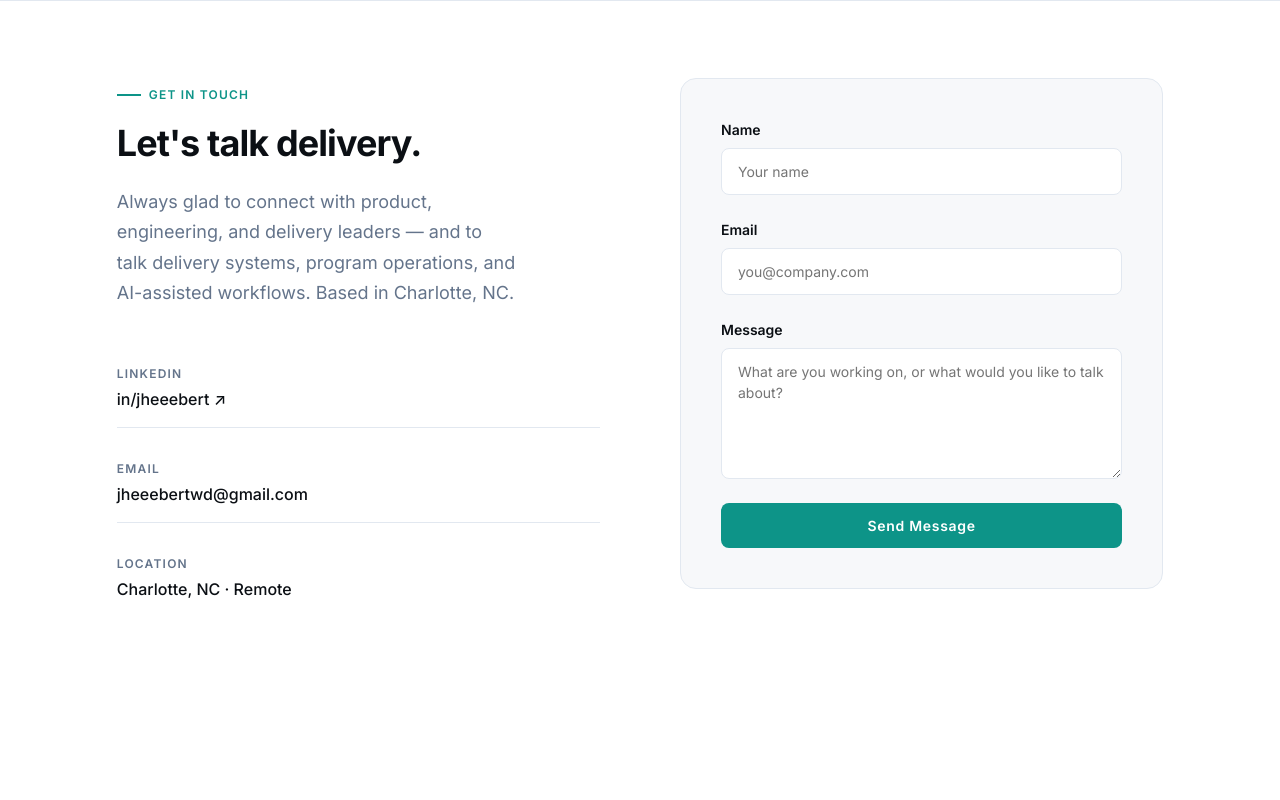
it: Contact form › shows error for invalid email
Type "not-an-email" into the field labelled "Email" at (922, 271), box 721,248 -> 1122,295
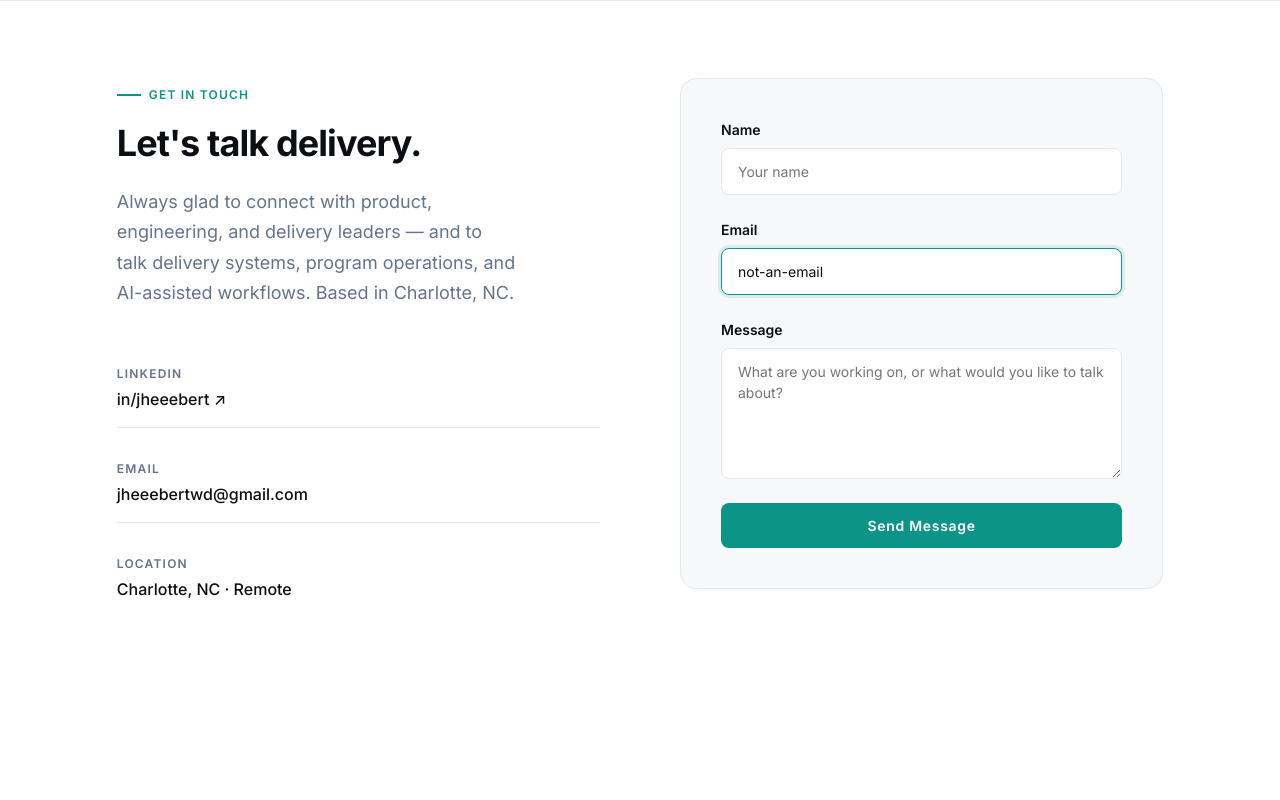
Press Tab
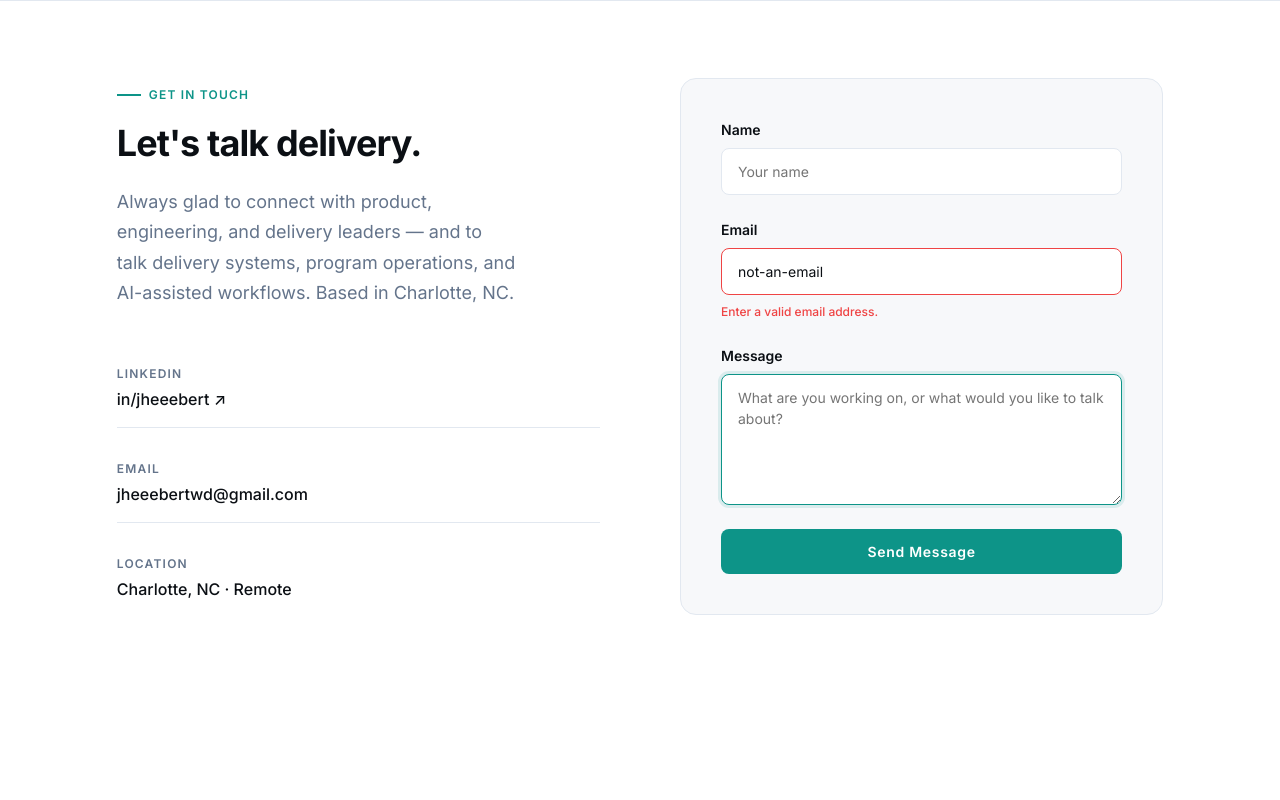
Expected: the text "Enter a valid email address." is shown, 721,304 -> 878,319
